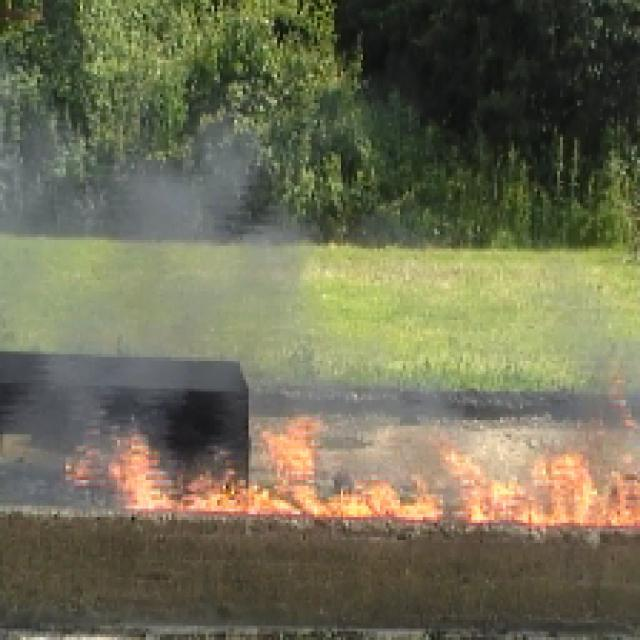Fire: (122, 461, 418, 524)
Smoke: (156, 170, 272, 324)
